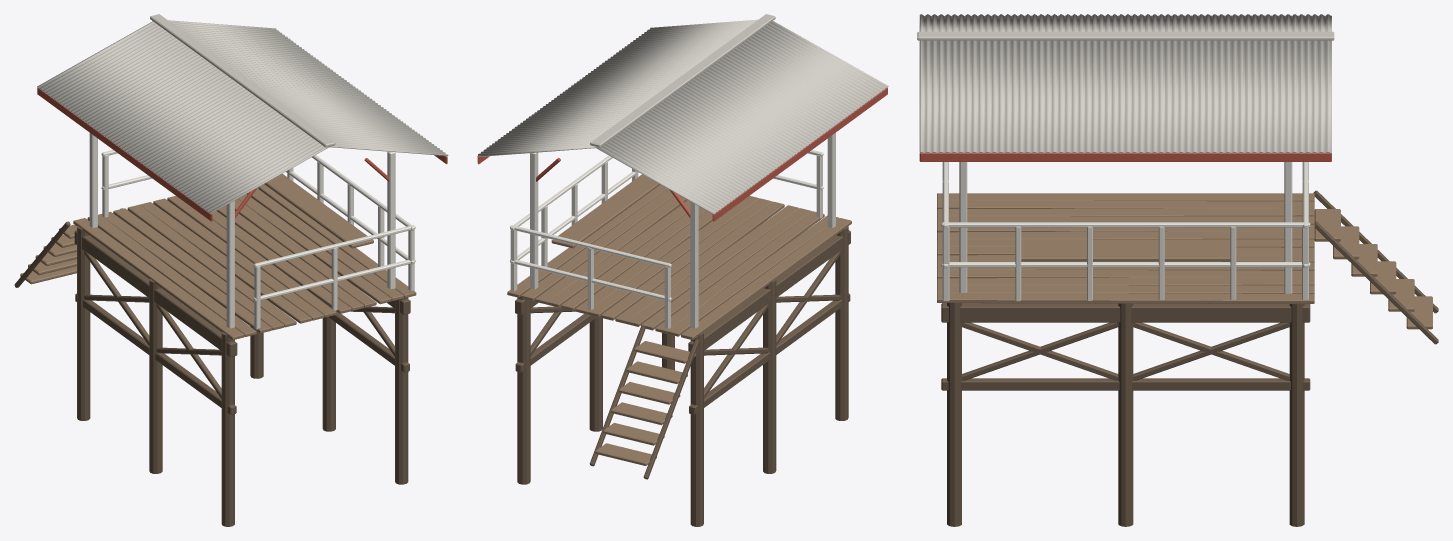
File: muelle.glb
3 views of the same model, side by side, from view 1: azimuth 30°, elevation 25°; view 2: azimuth 150°, elevation 25°; view 3: azimuth 270°, elevation 25° (orthographic). The views are drawn at different scales.
Parts seen in each view (by area): view 1: chapa, madera, madera_humeda, pintura_blanca, rojo; view 2: chapa, madera, madera_humeda, pintura_blanca, rojo; view 3: chapa, madera, madera_humeda, pintura_blanca, rojo.
Part boxes in pixels (<box>): chapa: <box>37,14,448,213</box>; madera: <box>20,174,416,339</box>; madera_humeda: <box>14,208,410,526</box>; pintura_blanca: <box>89,133,415,329</box>; rojo: <box>37,87,447,221</box>; chapa: <box>477,14,888,214</box>; madera: <box>507,174,851,465</box>; madera_humeda: <box>515,226,850,526</box>; pintura_blanca: <box>510,132,835,328</box>; rojo: <box>477,87,887,221</box>; chapa: <box>917,14,1334,153</box>; madera: <box>937,193,1432,329</box>; madera_humeda: <box>941,190,1438,526</box>; pintura_blanca: <box>941,162,1310,301</box>; rojo: <box>919,152,1331,161</box>.
Size of the model in its own units: 3.71 by 5.52 by 5.94.
